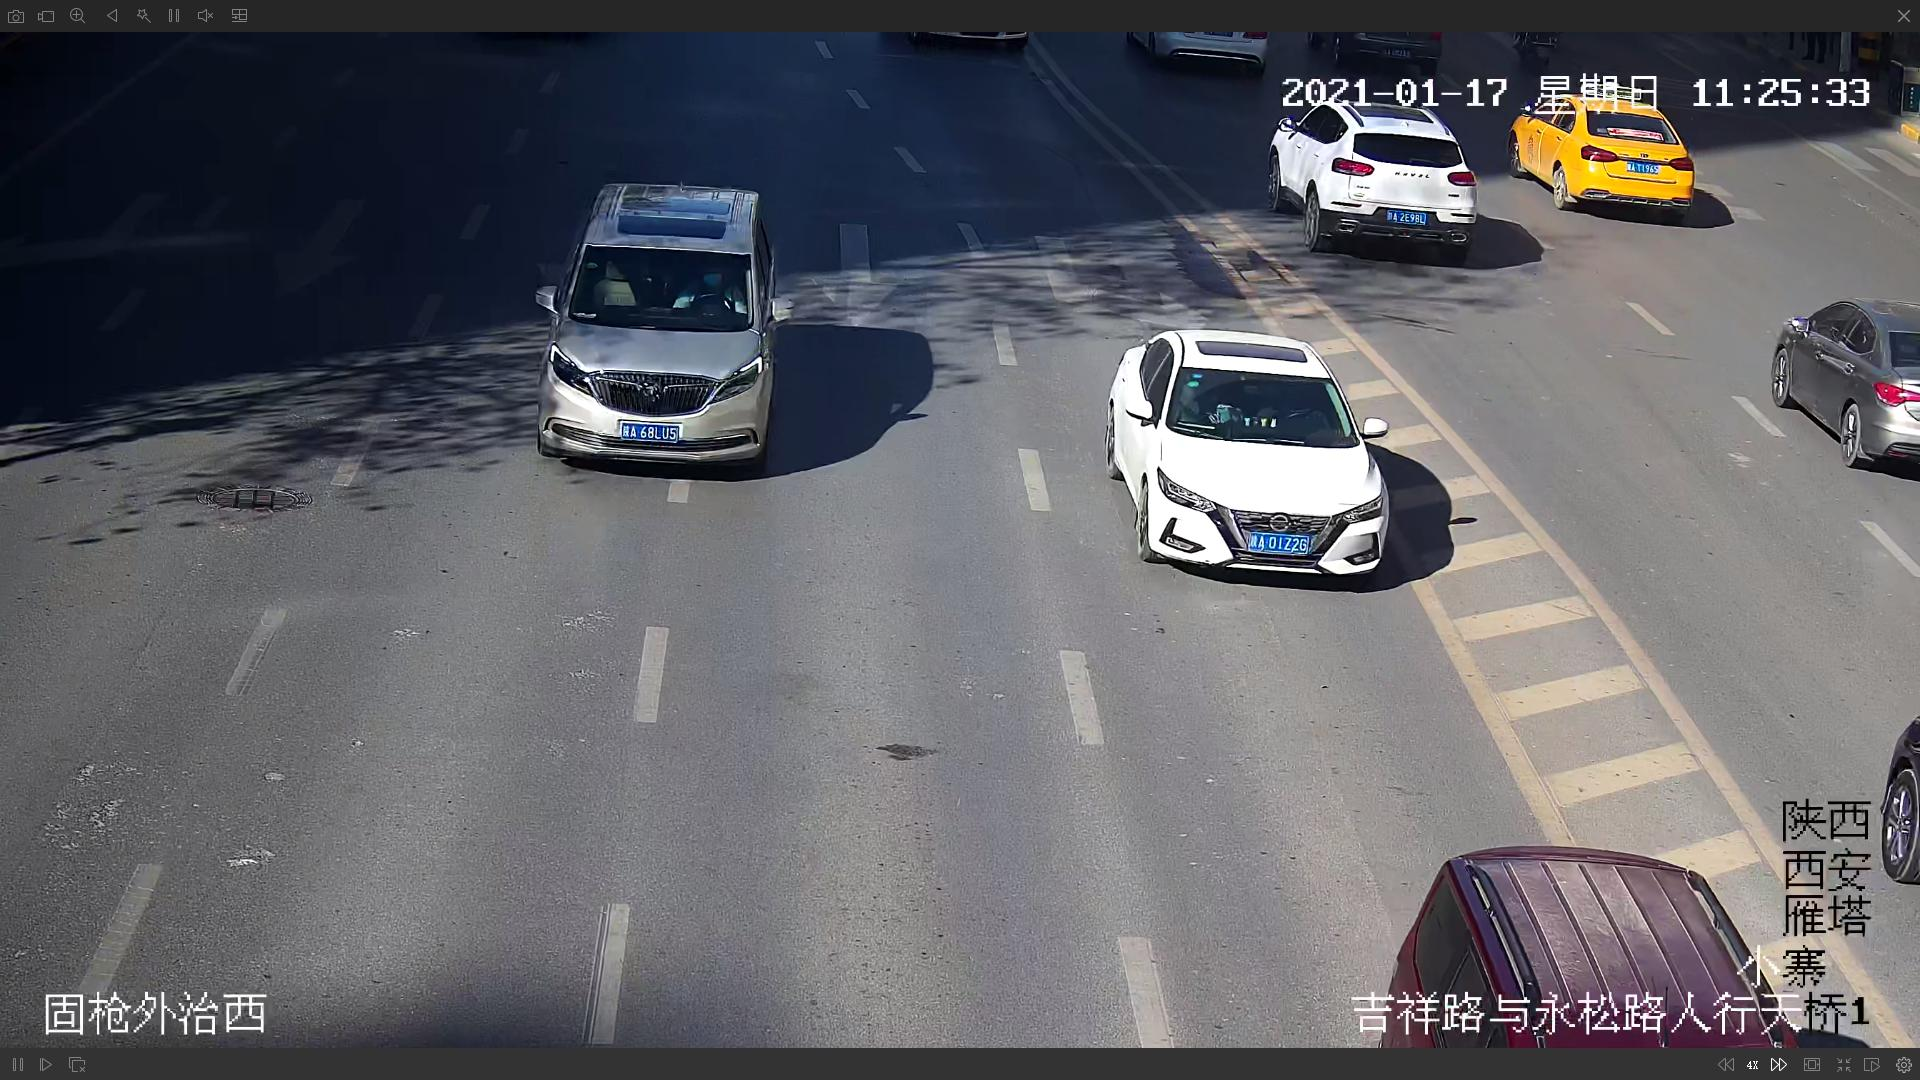silver-gray: (538, 178, 785, 462)
white: (1102, 334, 1394, 583)
